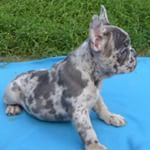puppy: (3, 4, 139, 123)
